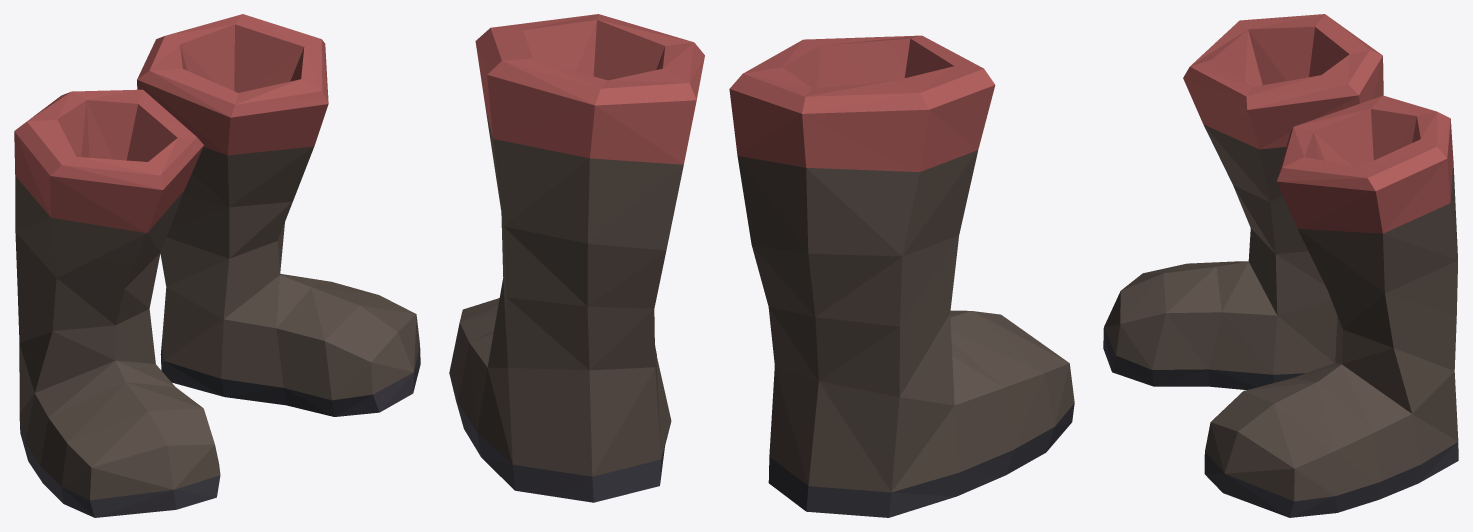
Rendered from bootsTravelDisplay.fbx.
3 renders of one model, left to right at view 1: azimuth 30°, elevation 25°; view 2: azimuth 150°, elevation 25°; view 3: azimuth 270°, elevation 25°, orthographic. The views are drawn at different scales.
Visible parts, largest first — view 1: bootsTravelDisplay; view 2: bootsTravelDisplay; view 3: bootsTravelDisplay.
Boxes of the visible parts, bbox=[...] form: bootsTravelDisplay: bbox=[14, 14, 420, 517]; bootsTravelDisplay: bbox=[449, 14, 1074, 517]; bootsTravelDisplay: bbox=[1103, 14, 1458, 517].
Size of the model in its own units: 1.84 by 1.38 by 1.37.
